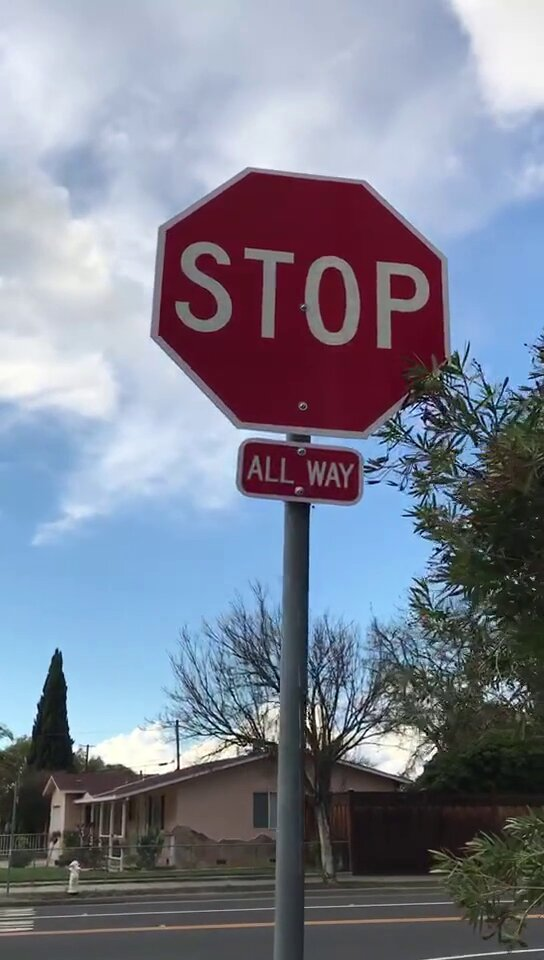stop_sign: (151, 168, 451, 437)
